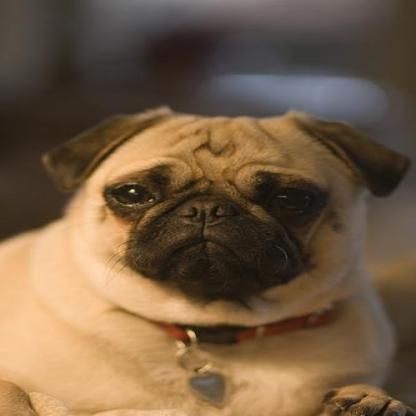pug: (0, 105, 412, 413)
